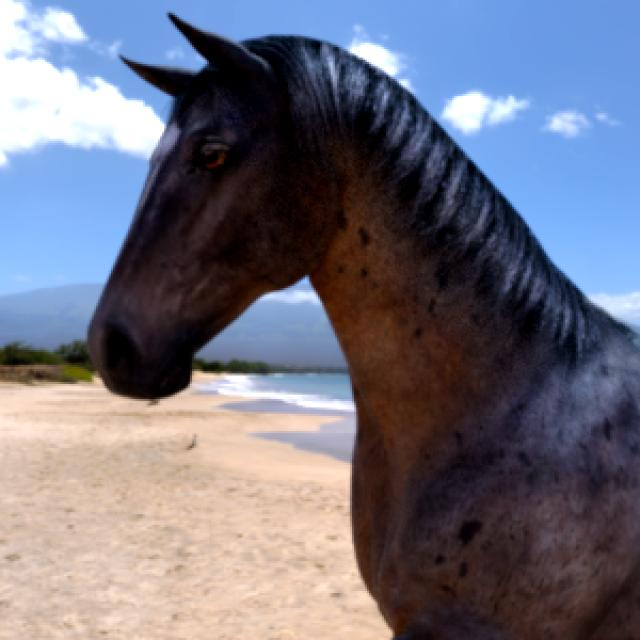horse: (89, 16, 640, 639)
